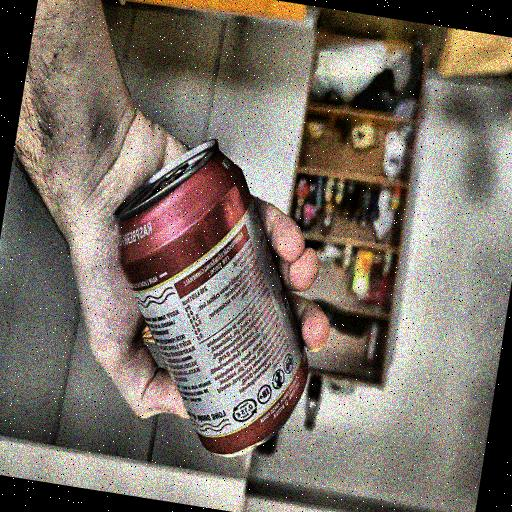koff: (72, 126, 354, 469)
